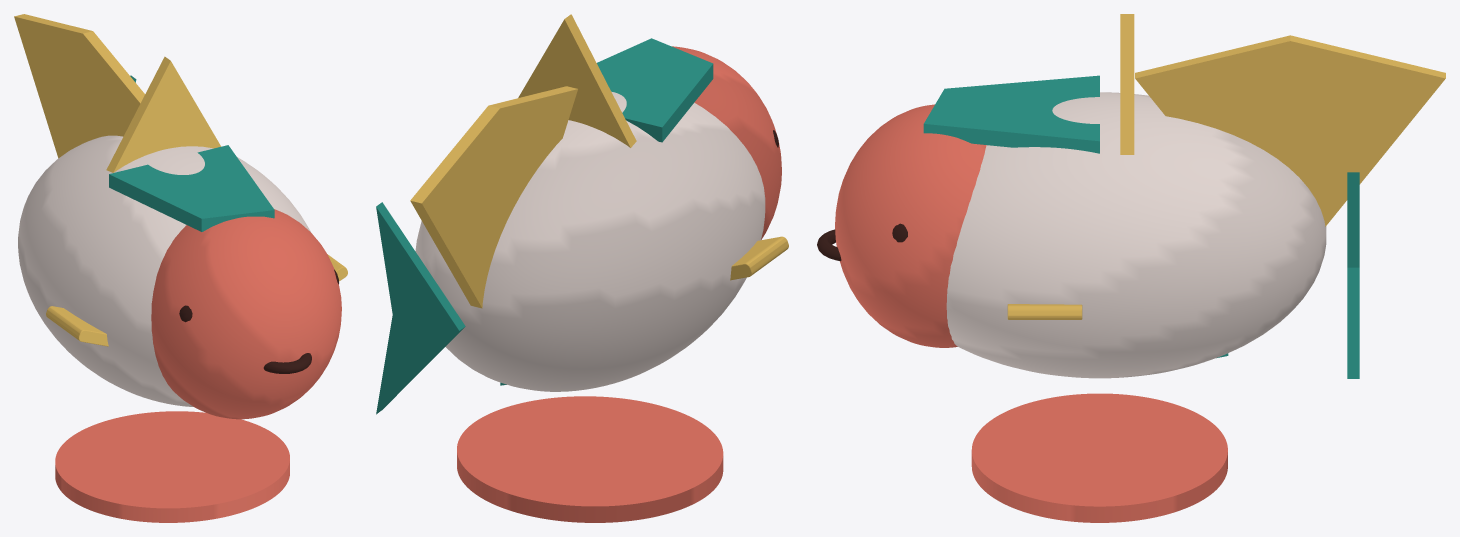
File: 0289_古生代动物图鉴_奇虾.glb
The picture shows the model from 3 angles, left to right: view 1: azimuth 30°, elevation 25°; view 2: azimuth 150°, elevation 25°; view 3: azimuth 270°, elevation 25°; orthographic projection. The views are drawn at different scales.
Parts seen in each view (by area): view 1: card_0289; view 2: card_0289; view 3: card_0289.
Boxes of the visible parts, x1,y1,x2,y2 form: card_0289: (14, 14, 347, 522); card_0289: (376, 14, 788, 522); card_0289: (817, 14, 1445, 522).
Bounding box in the file's own units: 0.6958 × 1 × 1.25.
